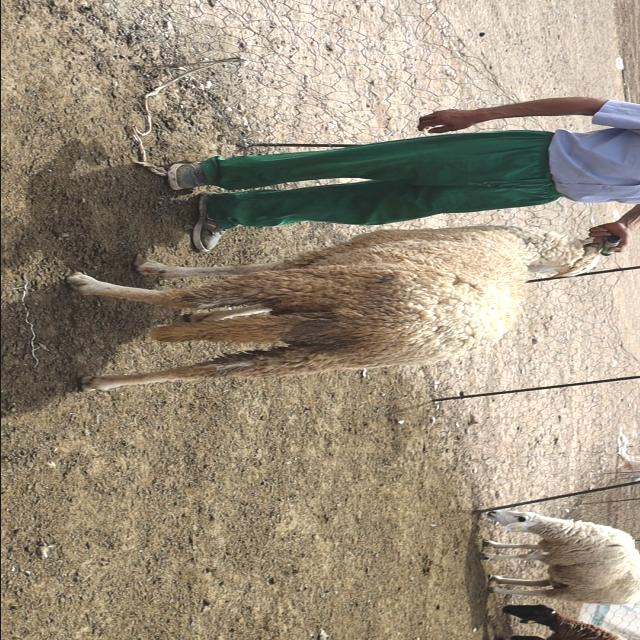Score_2: (66, 225, 619, 392)
